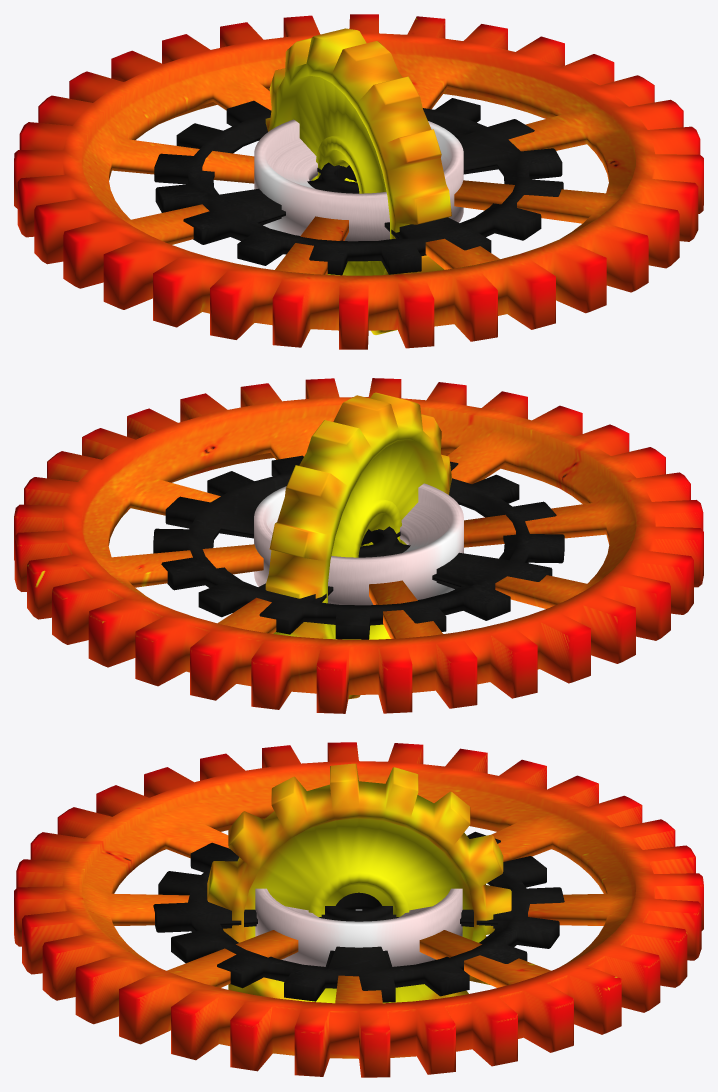
File: gear4.fbx
3 views of the same model, one above another, from view 1: azimuth 30°, elevation 25°; view 2: azimuth 150°, elevation 25°; view 3: azimuth 270°, elevation 25° (orthographic).
Parts seen in each view (by area): view 1: polySurface52_polySurface30, polySurface30_polySurface55, polySurface30_polySurface56, polySurface30_polySurface53, polySurface30_polySurface54; view 2: polySurface52_polySurface30, polySurface30_polySurface56, polySurface30_polySurface55, polySurface30_polySurface53, polySurface30_polySurface54; view 3: polySurface52_polySurface30, polySurface30_polySurface56, polySurface30_polySurface55, polySurface30_polySurface53, polySurface30_polySurface54.
Boxes of the visible parts, x1=… form: polySurface52_polySurface30: x1=14, y1=14, x2=703, y2=349; polySurface30_polySurface55: x1=154, y1=98, x2=563, y2=275; polySurface30_polySurface56: x1=265, y1=28, x2=451, y2=334; polySurface30_polySurface53: x1=254, y1=119, x2=463, y2=241; polySurface30_polySurface54: x1=154, y1=105, x2=562, y2=275; polySurface52_polySurface30: x1=14, y1=378, x2=703, y2=713; polySurface30_polySurface56: x1=265, y1=392, x2=451, y2=699; polySurface30_polySurface55: x1=153, y1=455, x2=564, y2=639; polySurface30_polySurface53: x1=254, y1=483, x2=463, y2=605; polySurface30_polySurface54: x1=165, y1=462, x2=564, y2=639; polySurface52_polySurface30: x1=14, y1=742, x2=703, y2=1077; polySurface30_polySurface56: x1=207, y1=763, x2=511, y2=1003; polySurface30_polySurface55: x1=153, y1=831, x2=564, y2=1002; polySurface30_polySurface53: x1=255, y1=888, x2=462, y2=966; polySurface30_polySurface54: x1=153, y1=855, x2=563, y2=1002.
Bounding box in the file's own units: 28.15 × 12.49 × 28.15.
1 material, 1 textured.
